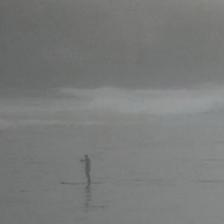surfer: (81, 153, 93, 184)
